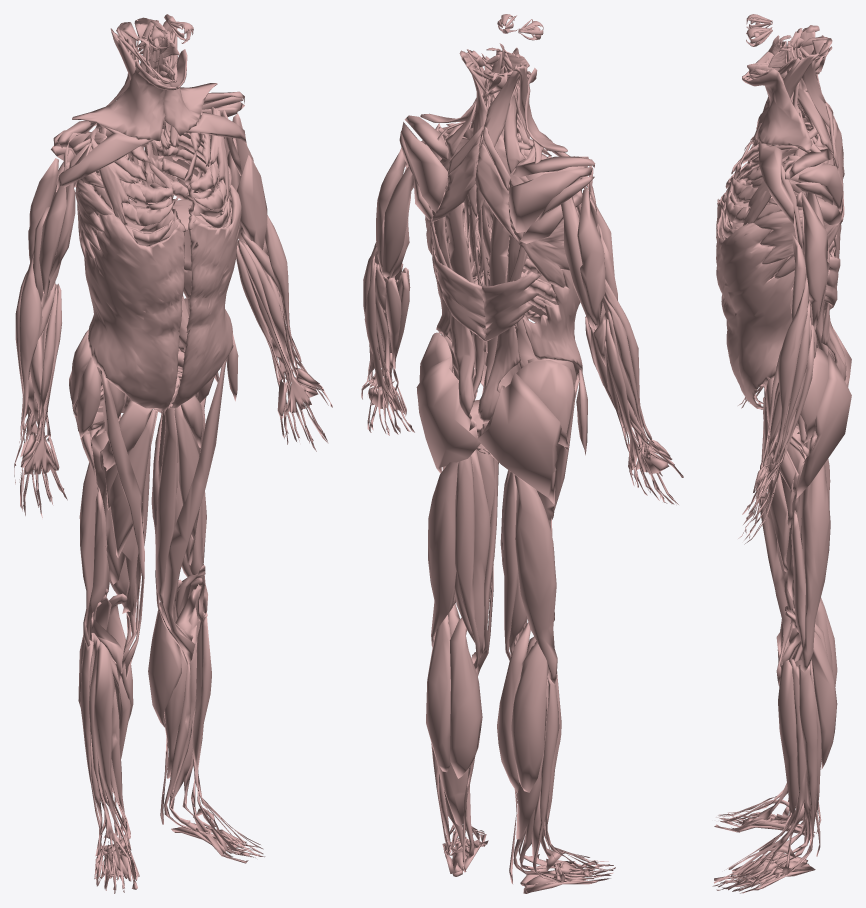
File: context-muscles.glb
3 views of the same model, side by side, from view 1: azimuth 30°, elevation 25°; view 2: azimuth 150°, elevation 25°; view 3: azimuth 270°, elevation 25° (orthographic).
Visible parts, largest first — view 1: context-muscles; view 2: context-muscles; view 3: context-muscles.
Part boxes in pixels (box(x1,y1,x2,y2)): context-muscles: box(14, 14, 332, 893); context-muscles: box(361, 14, 683, 893); context-muscles: box(712, 14, 851, 893).
Bounding box in the file's own units: 0.3713 × 0.9365 × 0.1424.
